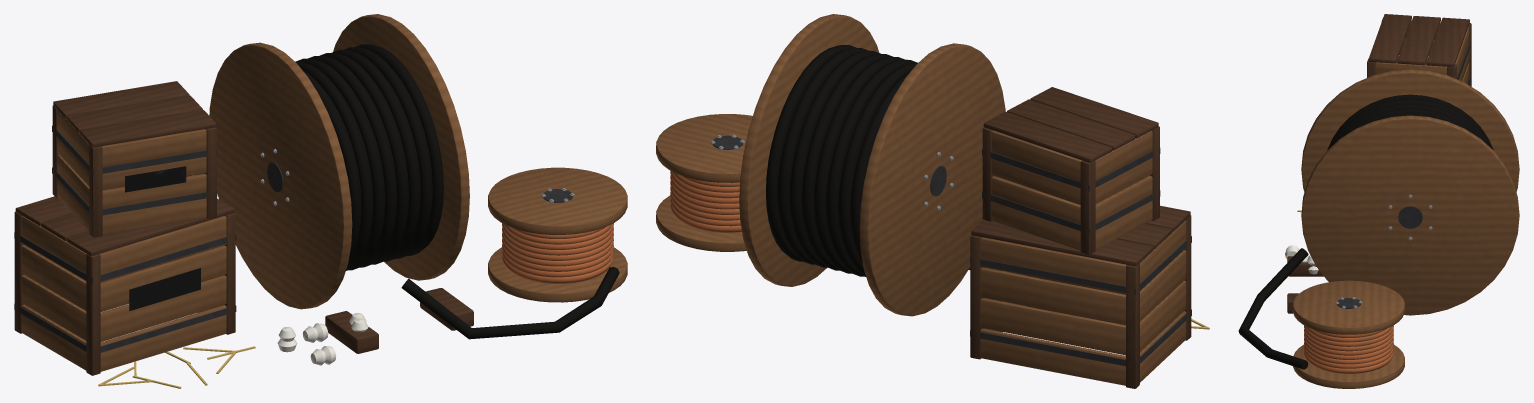
Rendered from cable_spool.glb.
3 renders of one model, left to right at view 1: azimuth 30°, elevation 25°; view 2: azimuth 150°, elevation 25°; view 3: azimuth 270°, elevation 25°, orthographic. The views are drawn at different scales.
Visible parts, largest first — view 1: bigDrumFlange-1, bigDrumFlange1, smallDrumFlange1, crateASlatF1, crateASlatF0, crateASlatF3, looseCable, smallDrumFlange-1, crateASlatF2, bigDrumTurn5, bigDrumTurn3, bigDrumTurn8 (+45 smaller); view 2: bigDrumFlange-1, bigDrumFlange1, smallDrumFlange1, crateASlatB2, crateASlatB1, crateASlatB0, crateASlatB3, bigDrumTurn6, bigDrumTurn3, bigDrumTurn4, bigDrumTurn5, bigDrumTurn7 (+34 smaller); view 3: bigDrumFlange1, bigDrumFlange-1, smallDrumFlange1, smallDrumFlange-1, looseCable, crateBLid2, crateBLid1, crateBLid0, bigDrumTurn0, bigDrumTurn1, bigDrumTurn2, bigDrumTurn3 (+13 smaller).
Part boxes in pixels (x1,y1,x2,y2): bigDrumFlange-1: (209, 42, 352, 309); bigDrumFlange1: (333, 14, 469, 280); smallDrumFlange1: (488, 167, 627, 234); crateASlatF1: (100, 275, 226, 341); crateASlatF0: (100, 305, 226, 371); crateASlatF3: (99, 215, 226, 282); looseCable: (401, 266, 619, 339); smallDrumFlange-1: (488, 247, 627, 302); crateASlatF2: (100, 245, 226, 312); bigDrumTurn5: (320, 53, 408, 264); bigDrumTurn3: (296, 58, 384, 270); bigDrumTurn8: (356, 44, 443, 255); bigDrumFlange-1: (859, 43, 1005, 316); bigDrumFlange1: (739, 14, 879, 286); smallDrumFlange1: (656, 114, 752, 182); crateASlatB2: (980, 267, 1125, 324); crateASlatB1: (980, 298, 1125, 355); crateASlatB0: (980, 328, 1125, 385); crateASlatB3: (980, 237, 1126, 294); bigDrumTurn6: (790, 51, 880, 267); bigDrumTurn3: (826, 59, 916, 276); bigDrumTurn4: (814, 56, 904, 273); bigDrumTurn5: (802, 53, 892, 270); bigDrumTurn7: (778, 48, 868, 264); bigDrumFlange1: (1301, 115, 1519, 315); bigDrumFlange-1: (1301, 69, 1519, 191); smallDrumFlange1: (1292, 280, 1404, 334); smallDrumFlange-1: (1293, 344, 1404, 388); looseCable: (1238, 248, 1308, 369); crateBLid2: (1368, 14, 1411, 63); crateBLid1: (1397, 16, 1440, 65); crateBLid0: (1426, 17, 1469, 66); bigDrumTurn0: (1327, 94, 1493, 149); bigDrumTurn1: (1331, 99, 1489, 146); bigDrumTurn2: (1336, 104, 1484, 142); bigDrumTurn3: (1346, 108, 1474, 134).
Bounding box in the file's own units: 2.8 × 1.28 × 1.6.
Materials: 9 (5 with a texture image).
